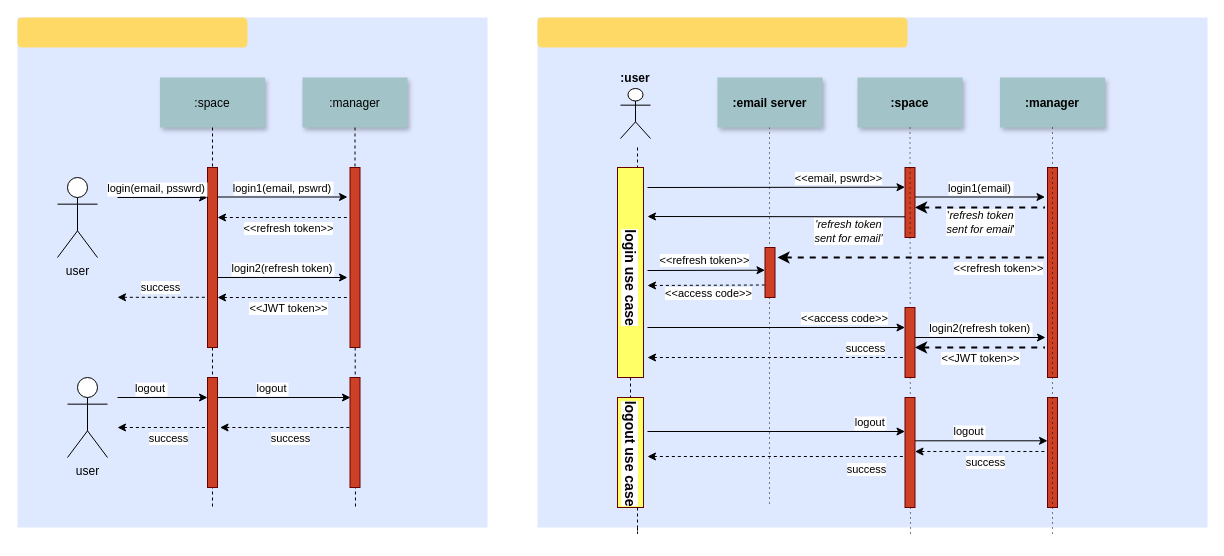
Image size: 1224x556. Some labels were removed from this diagram. The shapes that lost their labels are listed below. From the top down, each one's centre as x and y in pixels, then its label:
[132,32]: JWT mechanism with login & logout
[722,32]: Ideal JWT mechanism sending access token to user email
